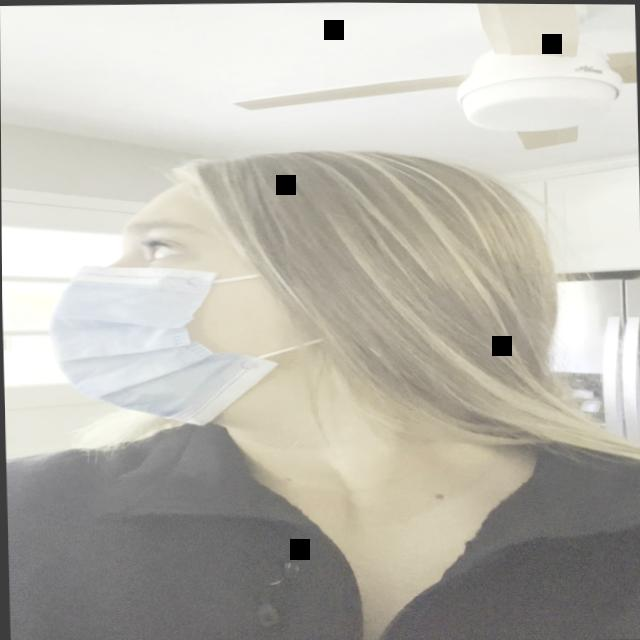Mask: (44, 171, 322, 428)
